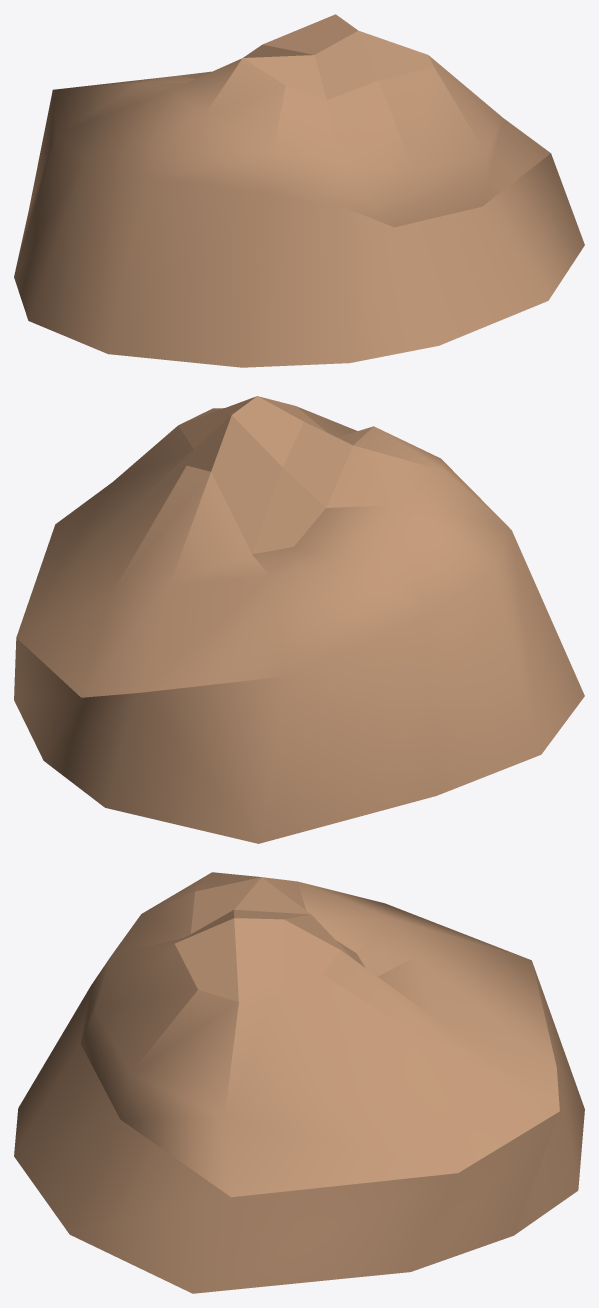
Rendered from Rock4Clean.fbx.
3 views of the same model, one above another, from view 1: azimuth 30°, elevation 25°; view 2: azimuth 150°, elevation 25°; view 3: azimuth 270°, elevation 25° (orthographic). The views are drawn at different scales.
Visible parts, largest first — view 1: pCube8; view 2: pCube8; view 3: pCube8.
Part boxes in pixels (x1,y1,x2,y2): pCube8: (14,14,584,367); pCube8: (14,396,584,843); pCube8: (14,872,584,1293).
Size of the model in its own units: 0.9417 by 0.4703 by 0.8631.
